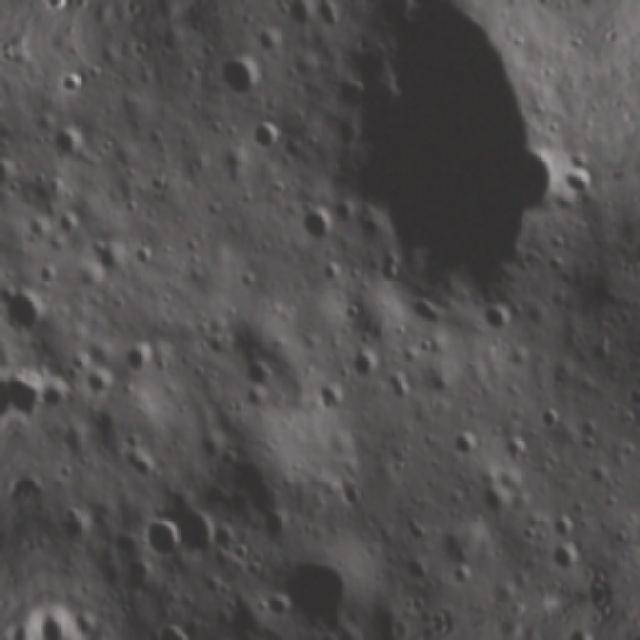crater: (321, 0, 604, 312), (267, 555, 361, 640), (211, 51, 271, 111), (0, 281, 54, 342), (295, 200, 343, 262), (174, 502, 223, 562), (137, 510, 186, 568), (527, 535, 581, 580), (93, 237, 138, 281), (474, 478, 520, 520), (47, 123, 91, 165), (347, 349, 393, 388), (38, 378, 78, 422), (478, 303, 518, 342), (448, 424, 487, 462), (529, 402, 569, 438), (333, 476, 367, 515), (249, 119, 286, 152), (51, 206, 84, 243), (150, 618, 196, 640), (626, 502, 640, 570), (60, 66, 91, 95)
